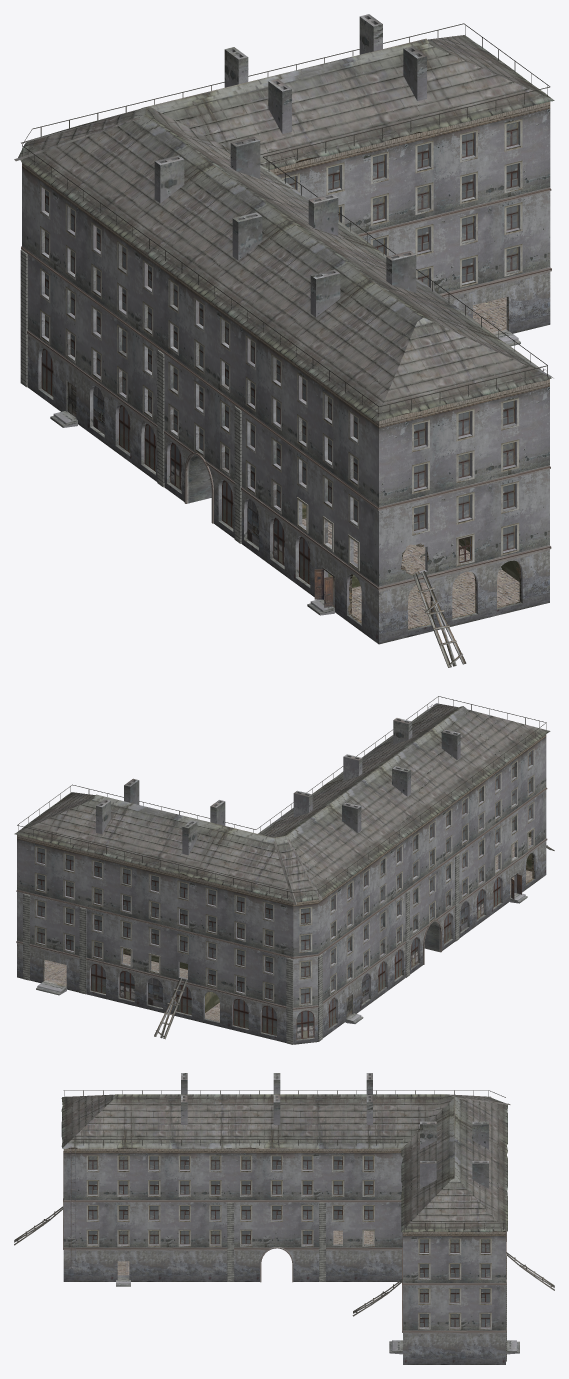
Rendered from Building_City_03_2_LOD1.FBX.
3 views of the same model, one above another, from view 1: azimuth 30°, elevation 25°; view 2: azimuth 150°, elevation 25°; view 3: azimuth 270°, elevation 25° (orthographic). The views are drawn at different scales.
Parts seen in each view (by area): view 1: Building_City_03_2_LOD1, Building_City_03_2Roof_LOD1, Building_City_03__2Frame_LOD1, Building_City_03_2Tube_LOD1, Stairs_Wood_LOD1; view 2: Building_City_03_2_LOD1, Building_City_03_2Roof_LOD1, Building_City_03__2Frame_LOD1, Building_City_03_2Tube_LOD1, Stairs_Wood_LOD1; view 3: Building_City_03_2_LOD1, Building_City_03_2Roof_LOD1, Building_City_03__2Frame_LOD1, Building_City_03_2Tube_LOD1, Stairs_Metal_LOD1.
Boxes of the visible parts, x1,y1,x2,y2 form: Building_City_03_2_LOD1: (20, 101, 551, 644); Building_City_03_2Roof_LOD1: (14, 23, 554, 421); Building_City_03__2Frame_LOD1: (40, 119, 522, 571); Building_City_03_2Tube_LOD1: (154, 14, 426, 317); Stairs_Wood_LOD1: (413, 571, 466, 667); Building_City_03_2_LOD1: (16, 734, 547, 1044); Building_City_03_2Roof_LOD1: (14, 696, 550, 904); Building_City_03__2Frame_LOD1: (34, 748, 534, 1006); Building_City_03_2Tube_LOD1: (96, 718, 460, 855); Stairs_Wood_LOD1: (154, 978, 187, 1039); Building_City_03_2_LOD1: (63, 1147, 519, 1364); Building_City_03_2Roof_LOD1: (61, 1090, 510, 1232); Building_City_03__2Frame_LOD1: (63, 1155, 491, 1329); Building_City_03_2Tube_LOD1: (181, 1073, 488, 1188); Stairs_Metal_LOD1: (70, 1146, 75, 1268).
Bounding box in the file's own units: 3703 × 6141 × 2141.
Materials: 5 (5 with a texture image).
